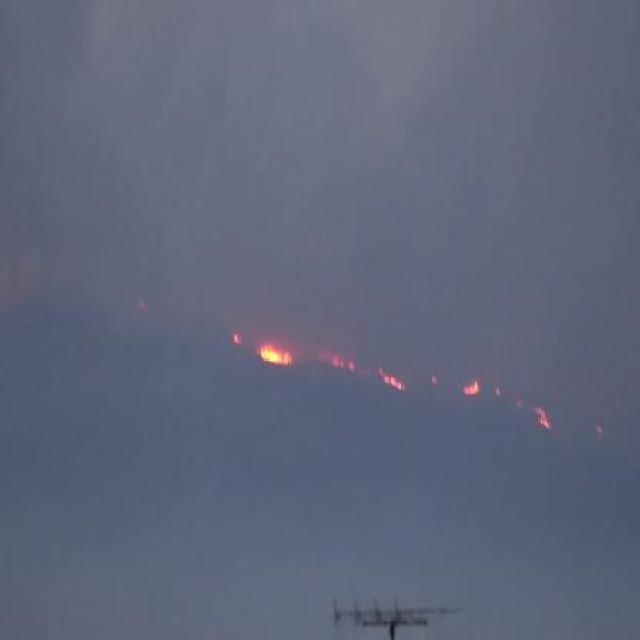Fire: (257, 342, 291, 366), (377, 364, 405, 392), (320, 348, 354, 370), (534, 405, 550, 430), (463, 382, 479, 396)
